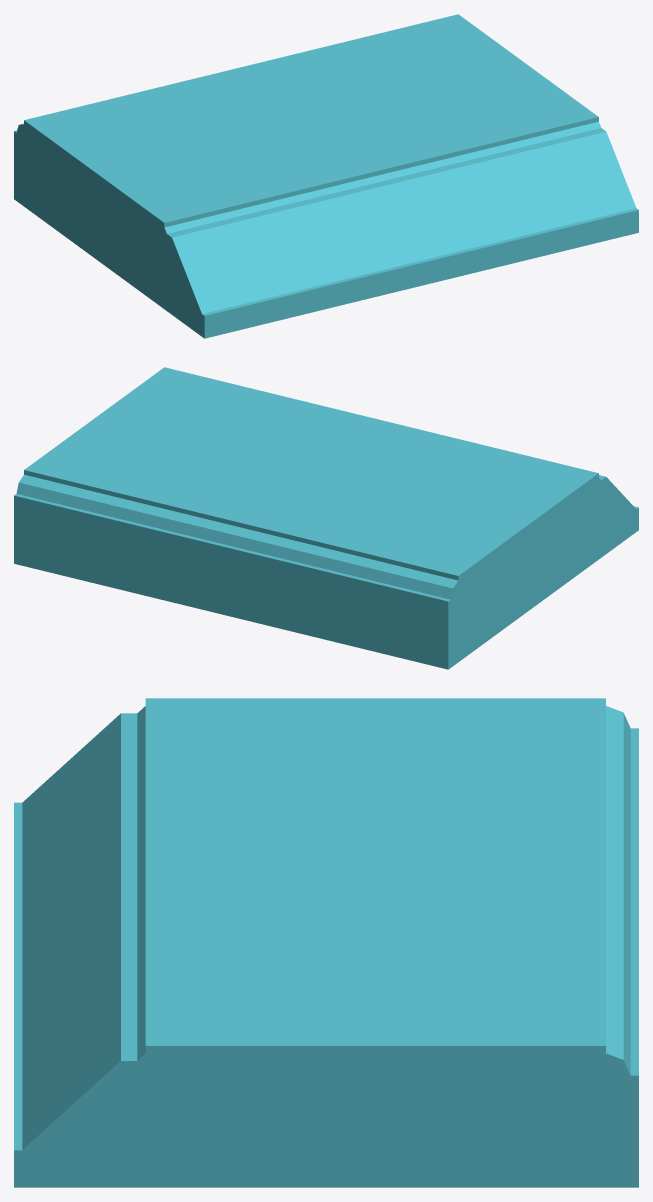
Rendered from classic_simple_edge.glb.
3 renders of one model, top to bottom at view 1: azimuth 30°, elevation 25°; view 2: azimuth 150°, elevation 25°; view 3: azimuth 270°, elevation 25°, orthographic. The views are drawn at different scales.
Parts seen in each view (by area): view 1: VIFS001; view 2: VIFS001; view 3: VIFS001.
Part boxes in pixels (x1,y1,x2,y2): VIFS001: (14,14,638,338); VIFS001: (14,367,638,669); VIFS001: (14,698,638,1187).
Bounding box in the file's own units: 0.1 × 0.019 × 0.076.
